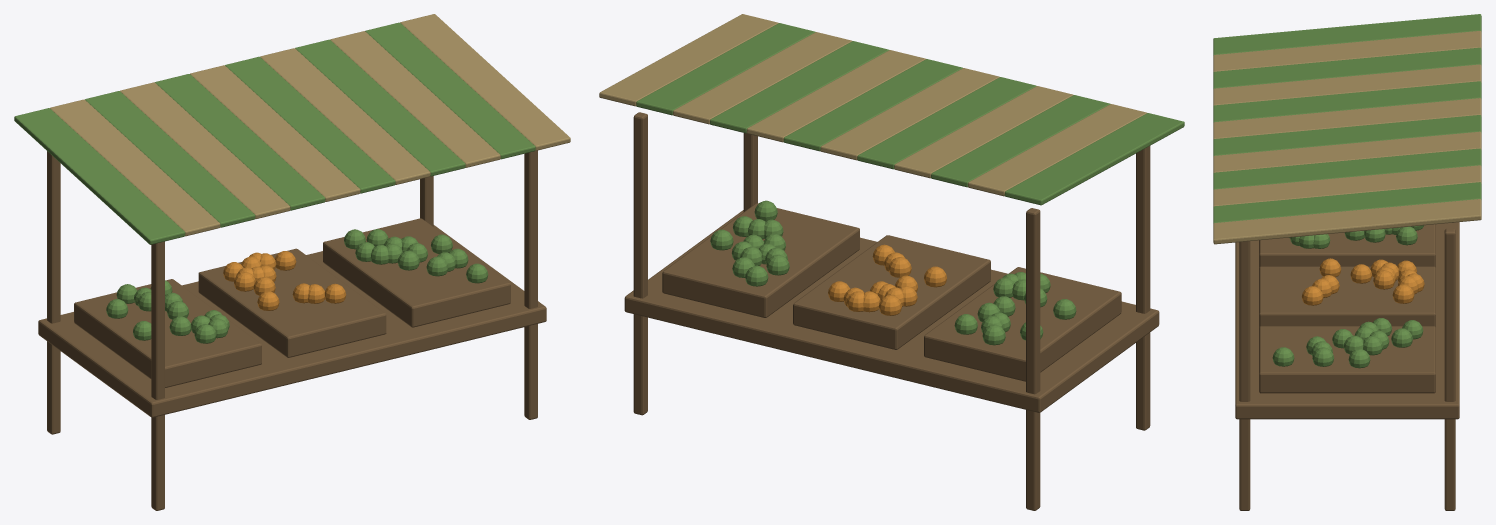
File: MarketStall.fbx
The picture shows the model from 3 angles, left to right: view 1: azimuth 30°, elevation 25°; view 2: azimuth 150°, elevation 25°; view 3: azimuth 270°, elevation 25°; orthographic projection. The views are drawn at different scales.
Parts seen in each view (by area): view 1: MarketStall; view 2: MarketStall; view 3: MarketStall.
Boxes of the visible parts, x1,y1,x2,y2 form: MarketStall: [14, 14, 570, 510]; MarketStall: [599, 14, 1184, 510]; MarketStall: [1213, 14, 1481, 510].
Bounding box in the file's own units: 373 × 209 × 263.
